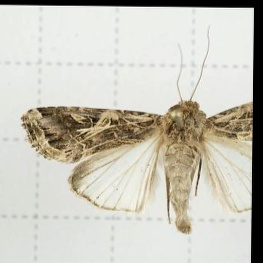Spodoptera litura: (19, 23, 252, 234)
